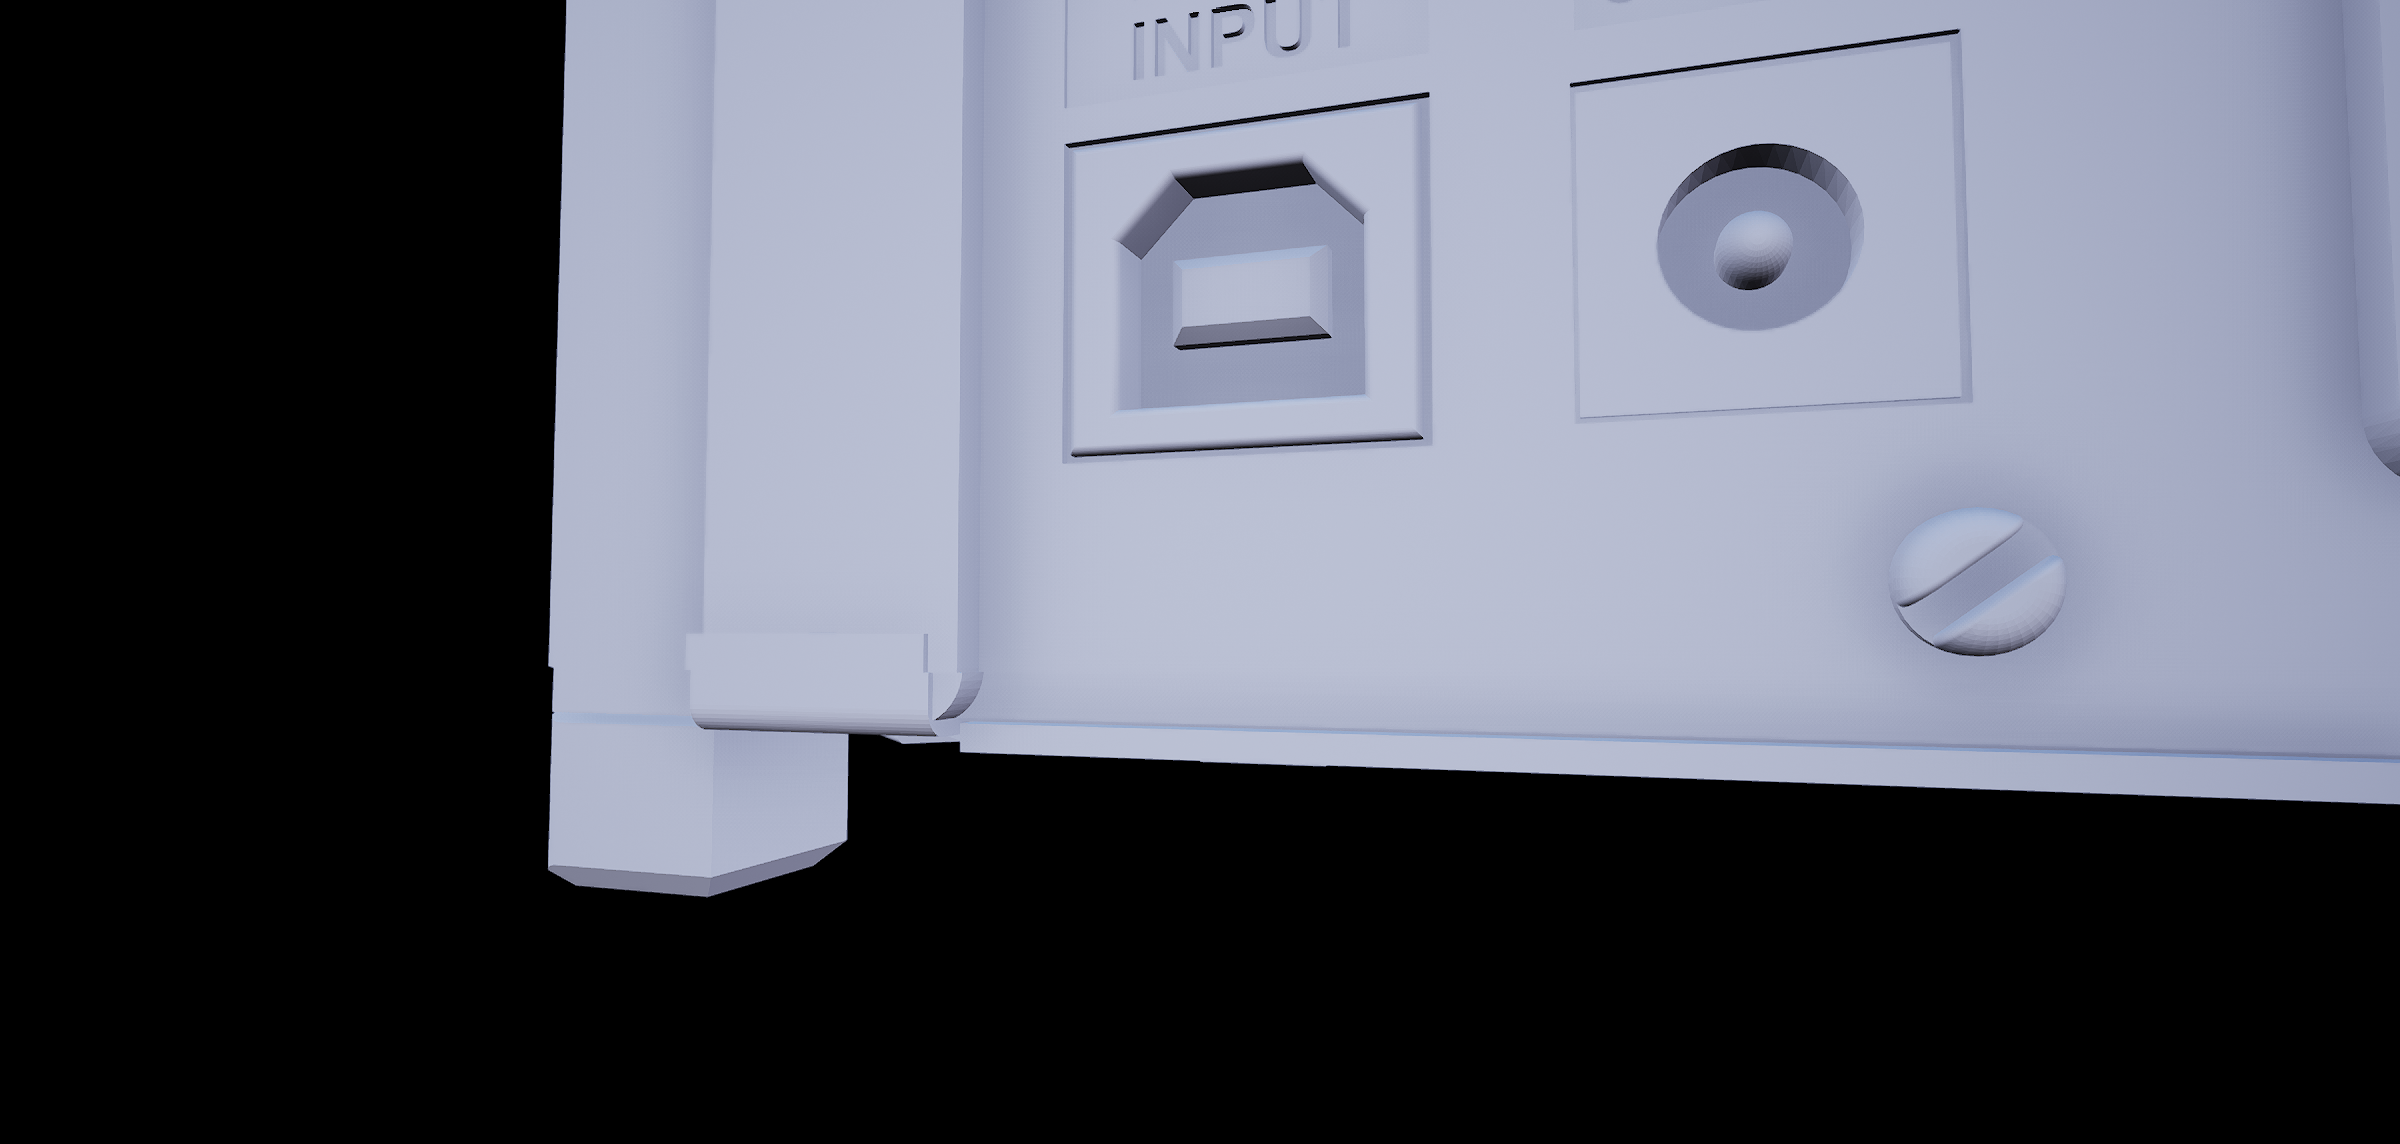dc: (1630, 145, 1893, 338)
usb: (1107, 159, 1388, 409)
